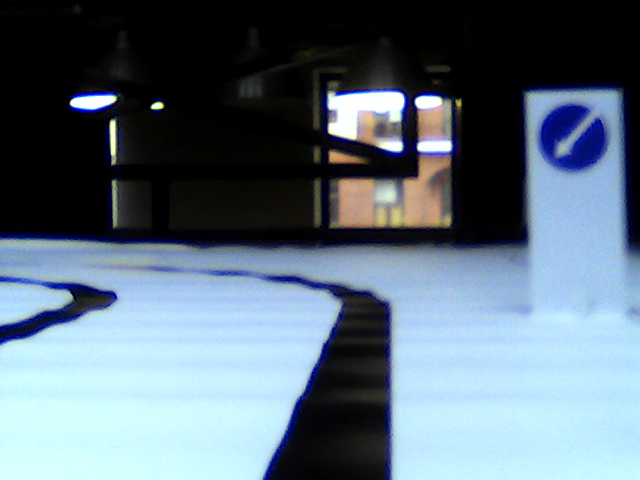prep: (539, 106, 605, 168)
